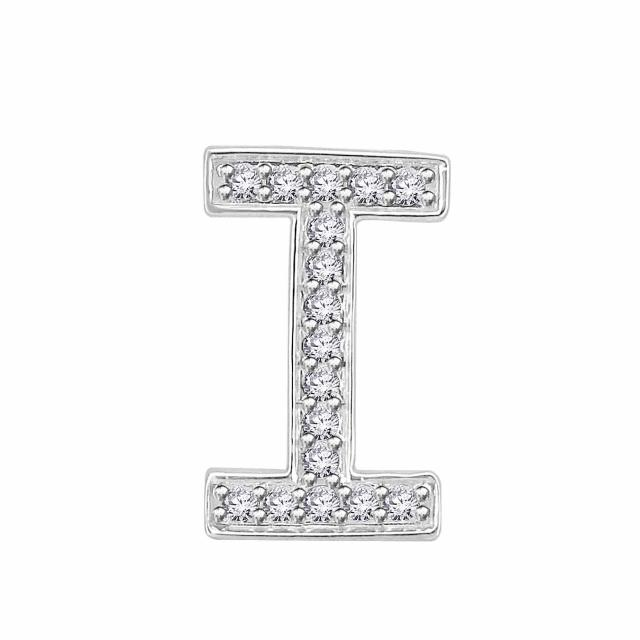I: (117, 92, 528, 580)
